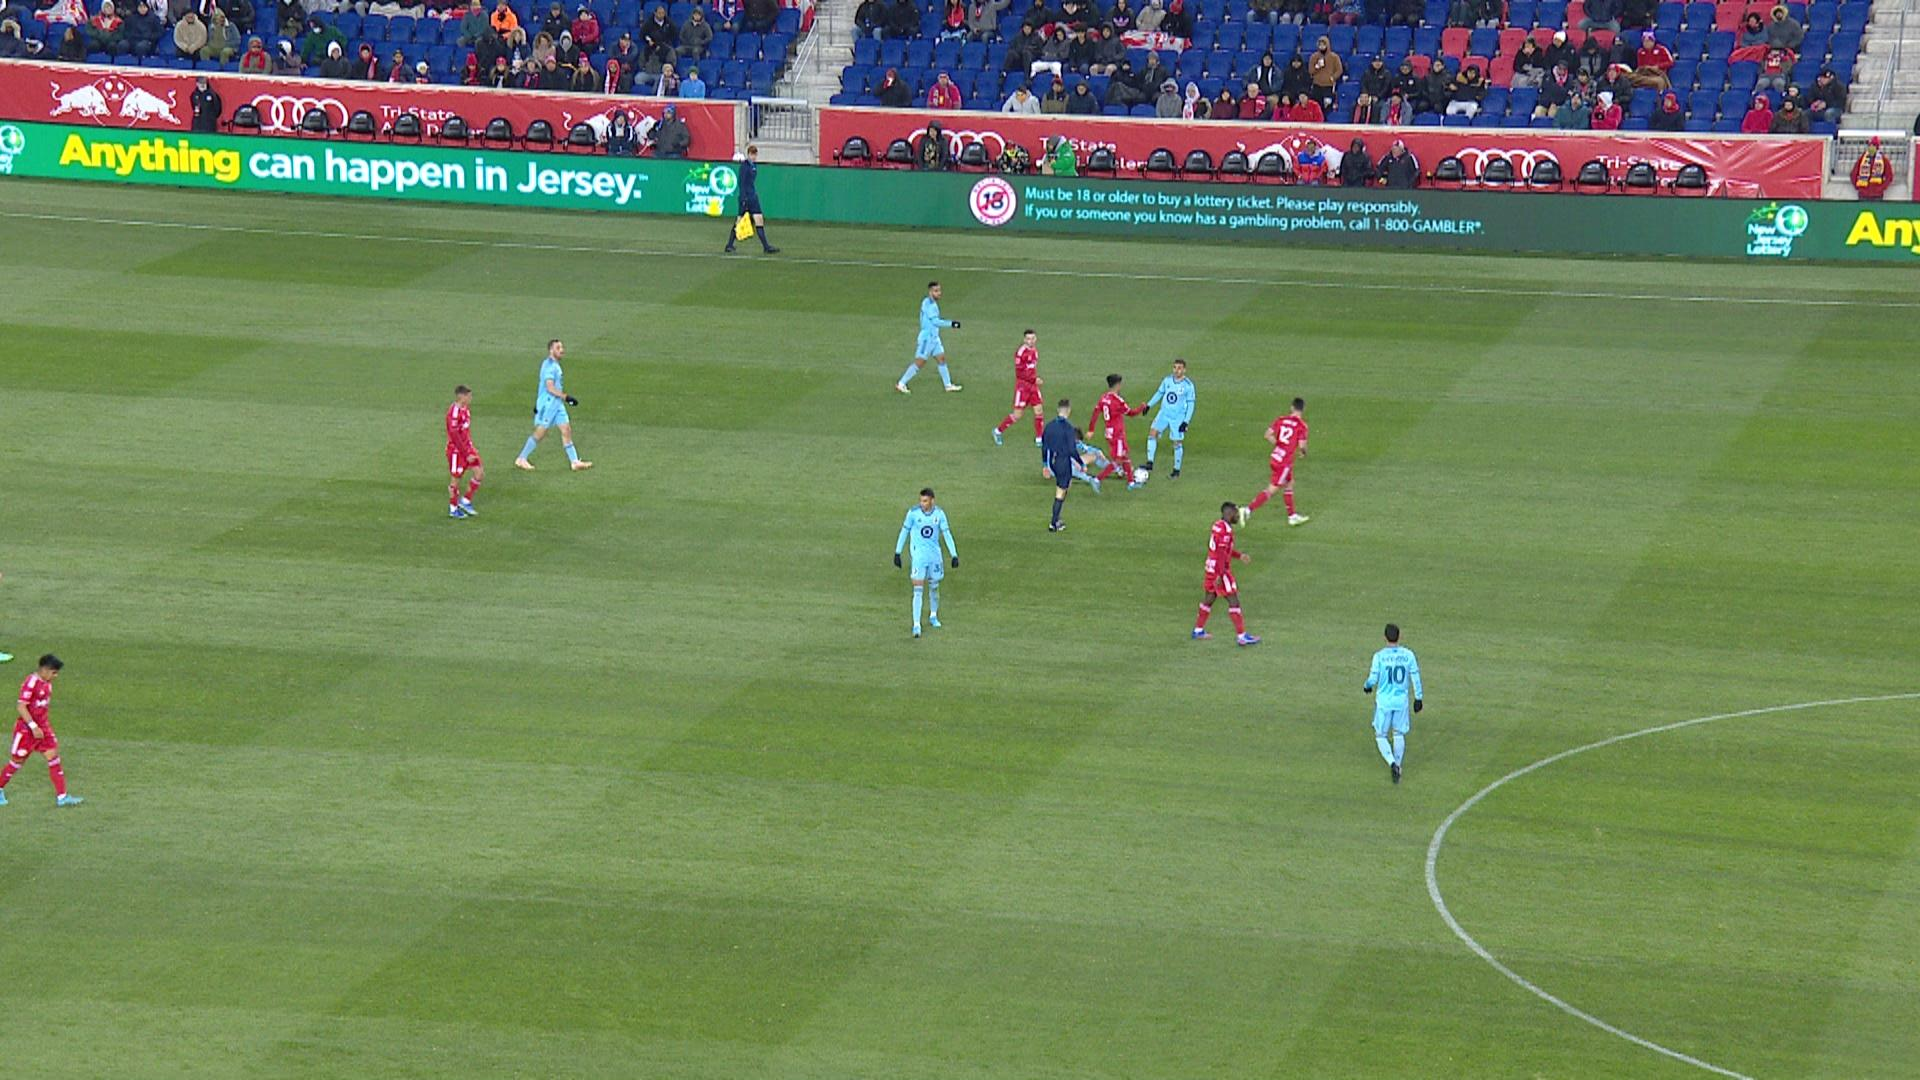football: (1134, 467, 1151, 483)
